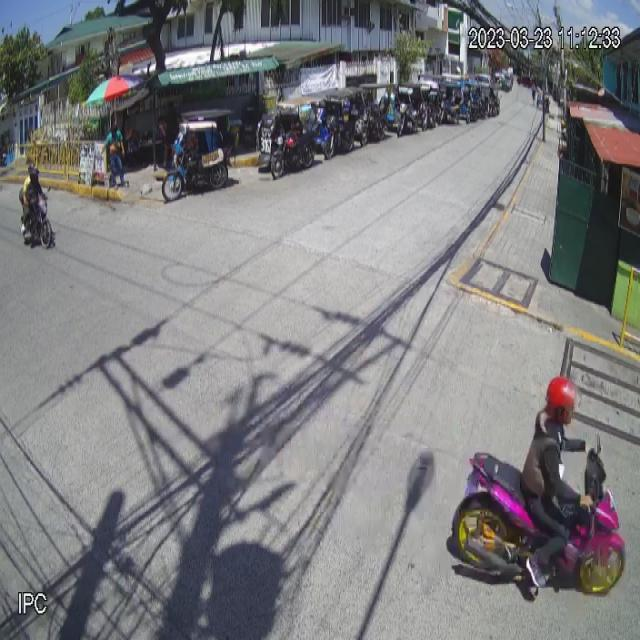Motorcycle: (449, 437, 630, 606), (19, 184, 54, 250)
